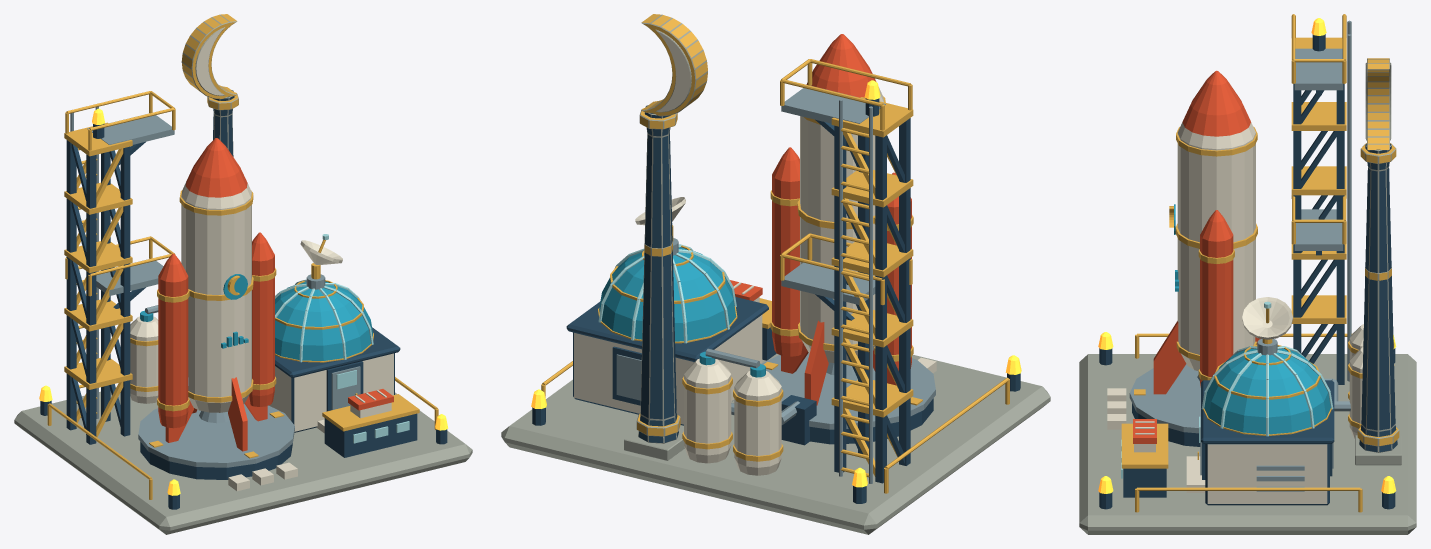
File: luna-lv4.glb
3 renders of one model, left to right at view 1: azimuth 30°, elevation 25°; view 2: azimuth 150°, elevation 25°; view 3: azimuth 270°, elevation 25°, orthographic. The views are drawn at different scales.
Visible parts, largest first — view 1: Luna_L4, Ocean_Explorer.003, Moon_Tracking_Dish.003; view 2: Luna_L4, Ocean_Explorer.003; view 3: Luna_L4, Ocean_Explorer.003, Moon_Tracking_Dish.003.
Boxes of the visible parts, left/top/right/bottom form: Luna_L4: left=14, top=14, right=472, bottom=534; Ocean_Explorer.003: left=157, top=138, right=276, bottom=451; Moon_Tracking_Dish.003: left=300, top=234, right=342, bottom=279; Luna_L4: left=501, top=14, right=1050, bottom=534; Ocean_Explorer.003: left=770, top=34, right=913, bottom=405; Luna_L4: left=1079, top=14, right=1416, bottom=534; Ocean_Explorer.003: left=1153, top=70, right=1260, bottom=394; Moon_Tracking_Dish.003: left=1242, top=297, right=1292, bottom=344.
Bounding box in the file's own units: 5.5 × 6.28 × 4.65.
